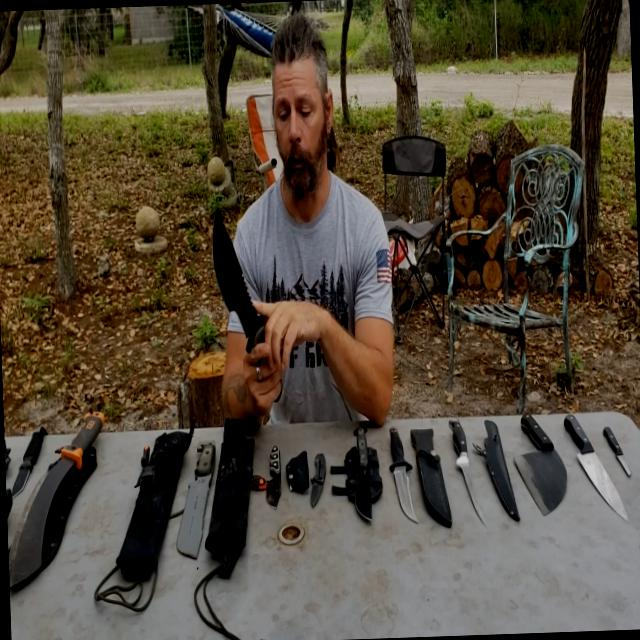knife: (2, 391, 130, 606), (204, 197, 285, 368), (554, 420, 639, 528), (333, 401, 394, 527), (504, 404, 570, 516), (170, 428, 218, 561), (446, 411, 497, 524), (385, 409, 425, 524), (8, 418, 45, 512), (304, 437, 342, 512), (257, 432, 290, 514), (598, 420, 631, 480)
